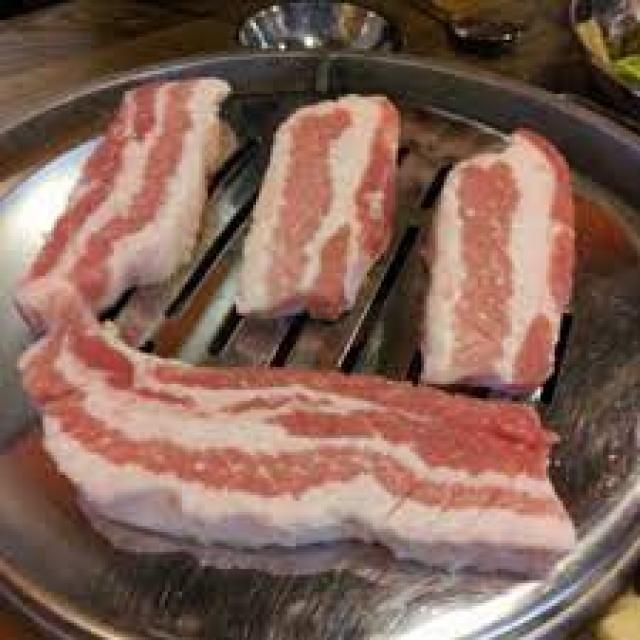pork belly: (20, 324, 577, 576), (17, 78, 236, 333), (424, 128, 577, 394), (239, 97, 401, 321)
